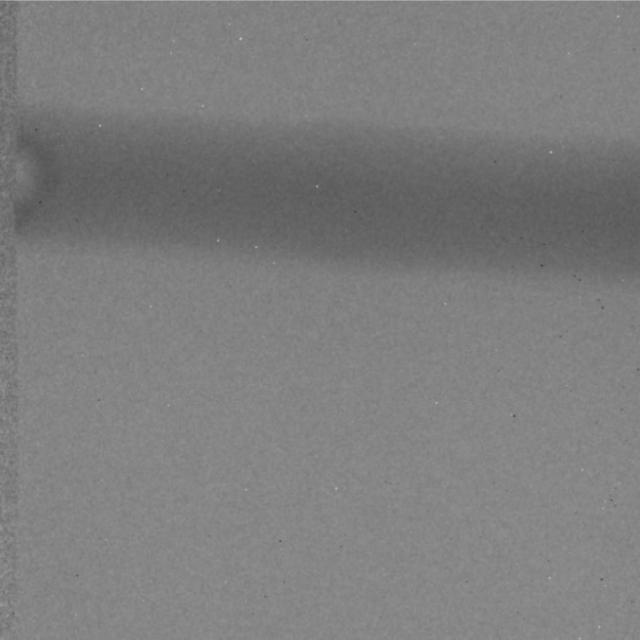broken arc: (13, 145, 42, 214)
